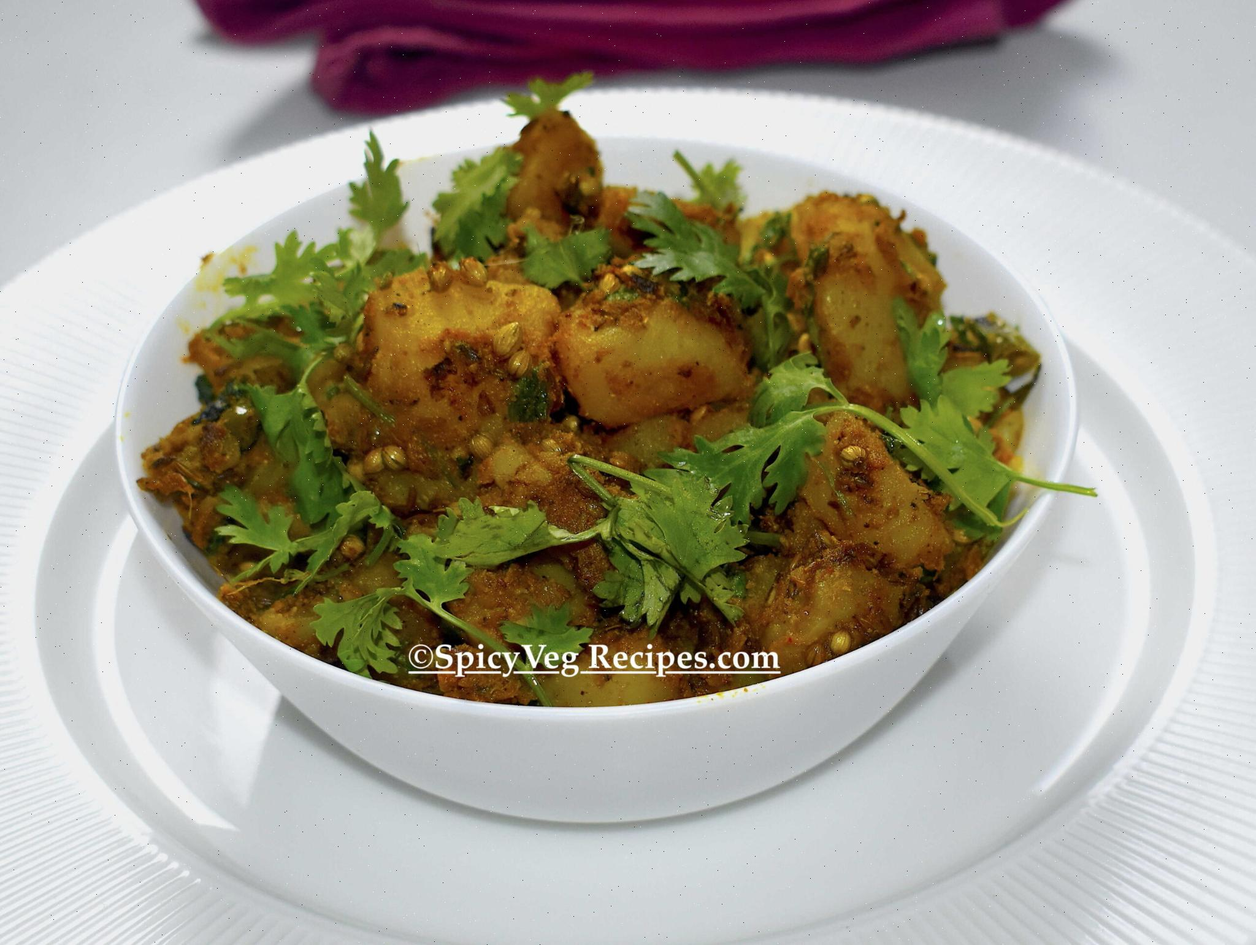aloo sabji: (224, 165, 1029, 655)
